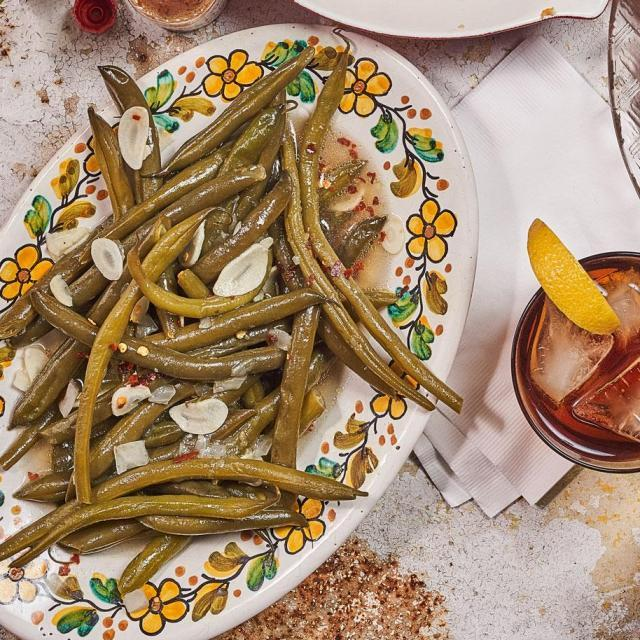Beans: (0, 46, 436, 587)
